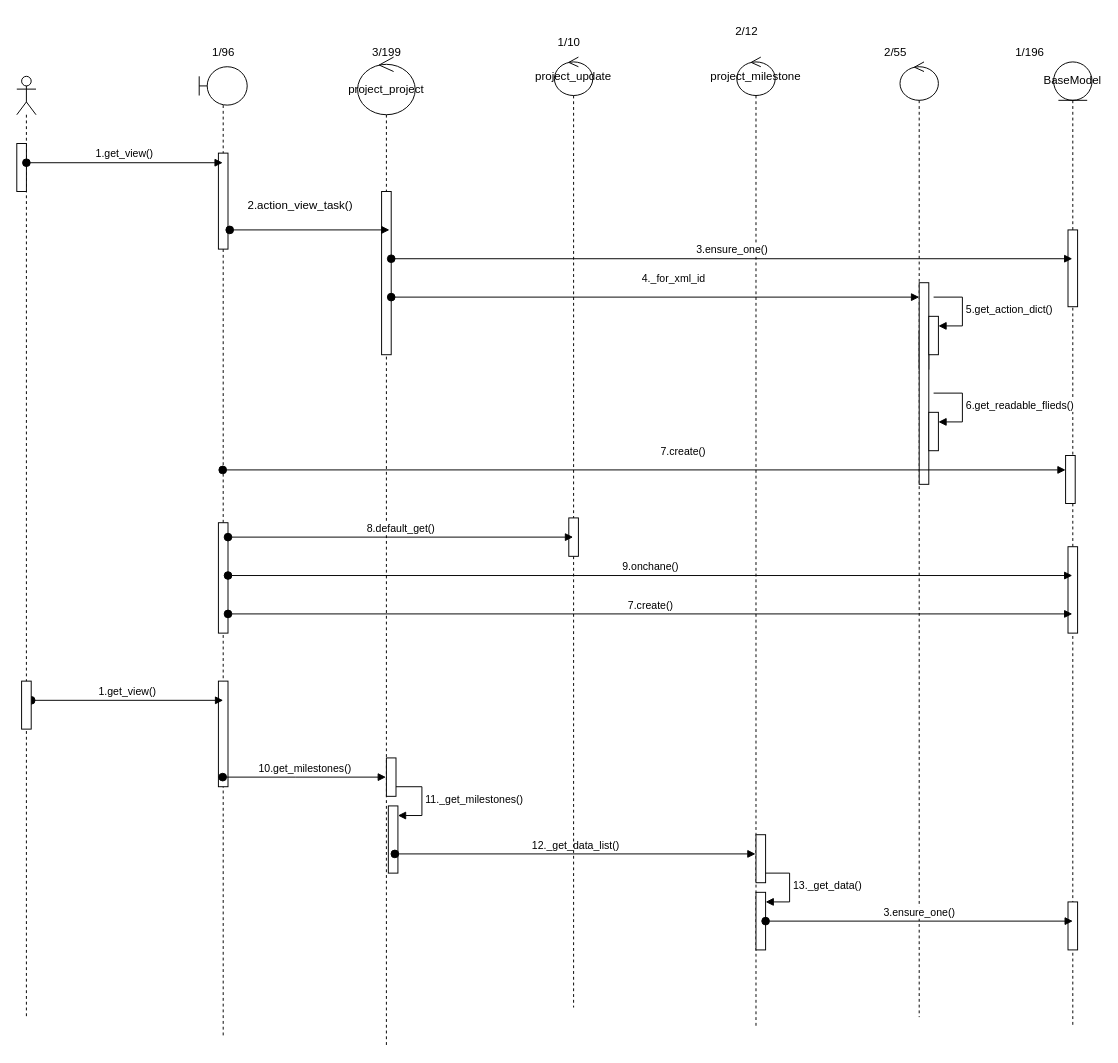
This 1118x1063 diagram has some shape labels left out. The box of each missing label's shape, as (x1, y1, x2, y2) in pixels:
ir_action: (899, 61, 938, 1017)
View: (198, 66, 247, 1036)
